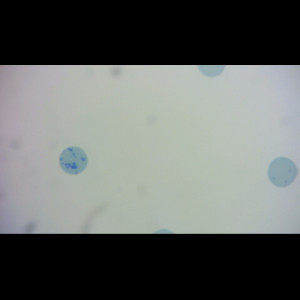aggregate reticulocyte: (57, 145, 89, 175)
punctate reticulocyte: (266, 156, 300, 189)
